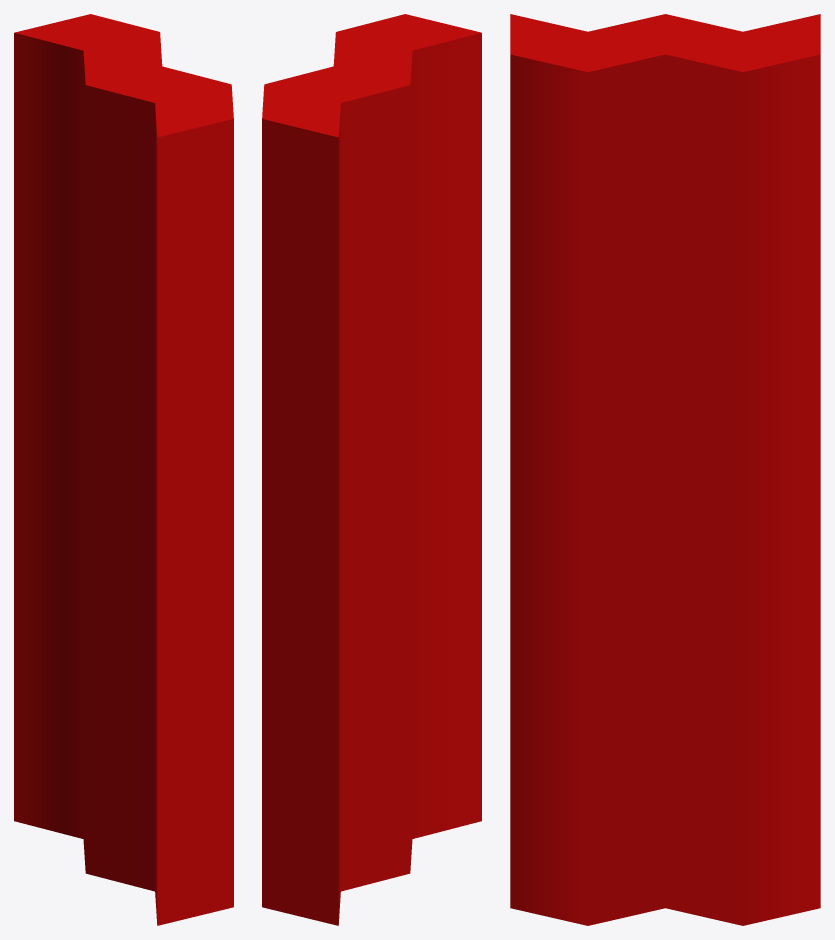
The model's file is FancypCube3.fbx.
3 renders of one model, left to right at view 1: azimuth 30°, elevation 25°; view 2: azimuth 150°, elevation 25°; view 3: azimuth 270°, elevation 25°, orthographic. The views are drawn at different scales.
Parts seen in each view (by area): view 1: pCube3; view 2: pCube3; view 3: pCube3.
Boxes of the visible parts, x1,y1,x2,y2 form: pCube3: (14, 14, 233, 925); pCube3: (262, 14, 481, 925); pCube3: (510, 14, 820, 925).
Bounding box in the file's own units: 0.4445 × 3.04 × 1.
